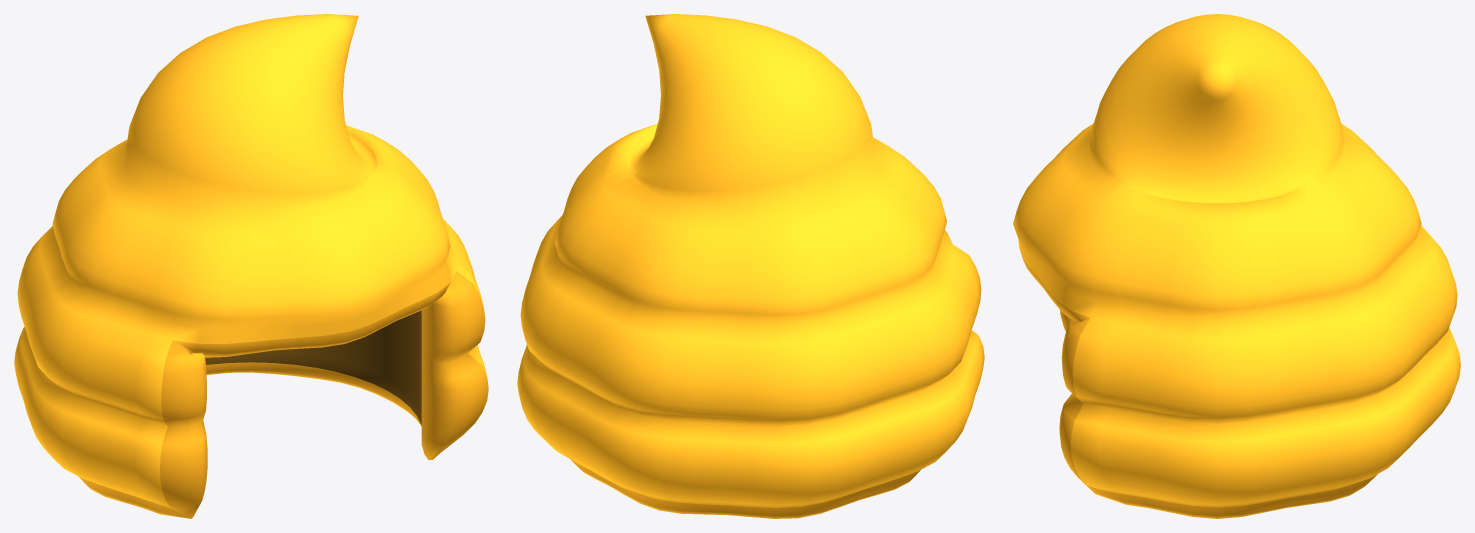
The model's file is hat_poopgold.glb.
3 renders of one model, left to right at view 1: azimuth 30°, elevation 25°; view 2: azimuth 150°, elevation 25°; view 3: azimuth 270°, elevation 25°, orthographic. The views are drawn at different scales.
Parts seen in each view (by area): view 1: hat_poopgold_q; view 2: hat_poopgold_q; view 3: hat_poopgold_q.
Part boxes in pixels (box(x1,y1,x2,y2)): hat_poopgold_q: box(14, 14, 488, 518); hat_poopgold_q: box(517, 14, 984, 518); hat_poopgold_q: box(1013, 14, 1460, 518).
Size of the model in its own units: 3.05 by 2.91 by 2.8.
